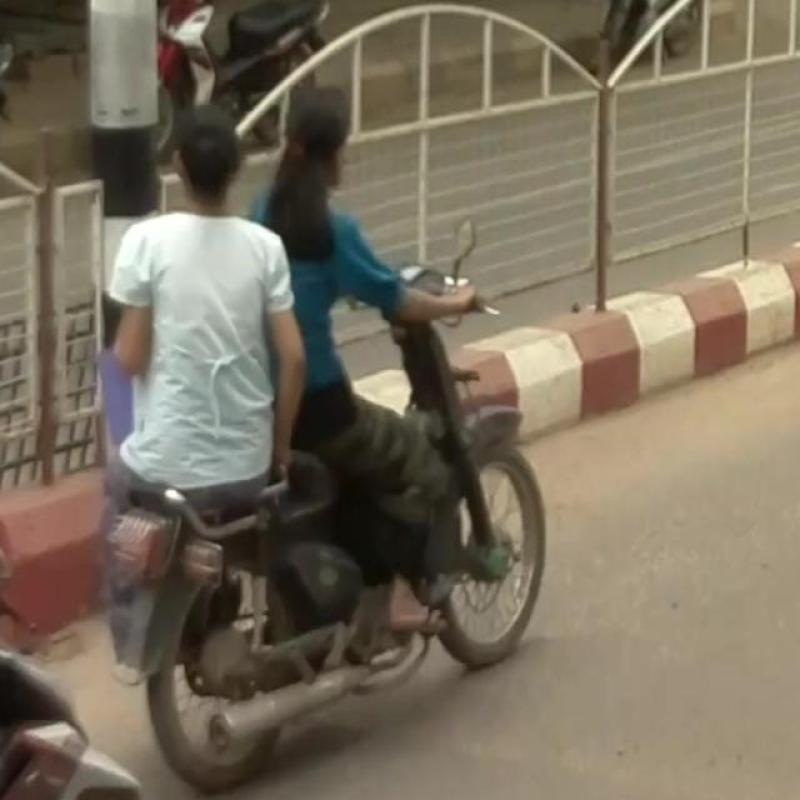nohelmet: (278, 47, 390, 251), (148, 91, 277, 228)
